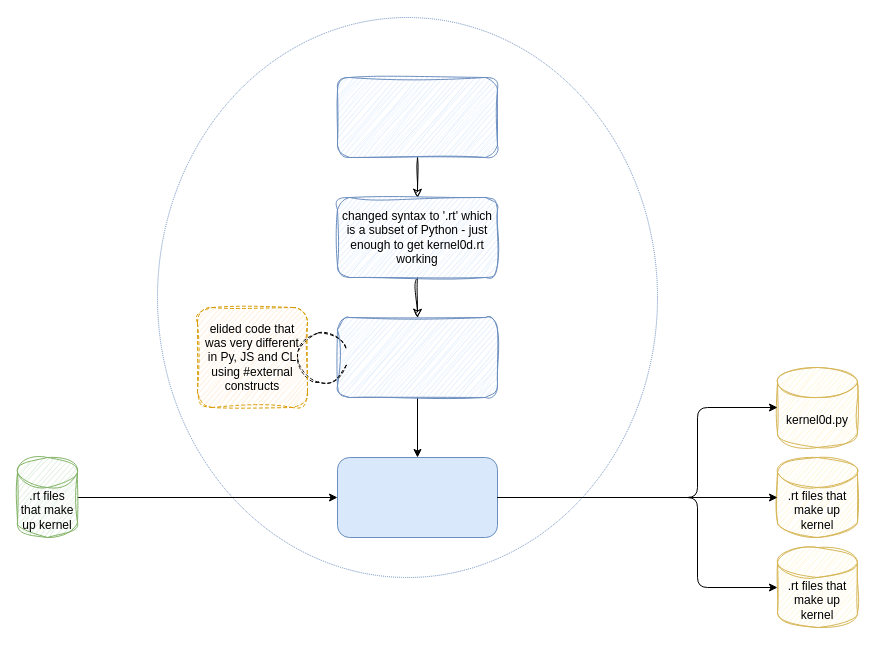
The diagram is 875 pixels wide and 645 high, and some of its shapes have lost their labels. The shapes that lost their labels are listed below. From the top down, each one's centre as x and y in pixels, then its label:
At (x=417, y=117): "wrote and debugged kernel0d.py in Python".
At (x=417, y=357): "extended '.rt' to allow it to emit Py, JS and CL".
At (x=417, y=497): "use T2T to transmogrify `.rt' files to Py, JS and CL".
